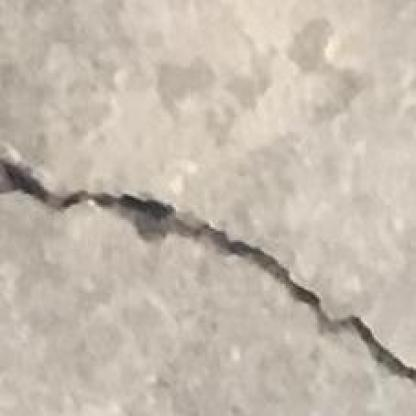SurfaceCrack: (0, 144, 416, 400)
